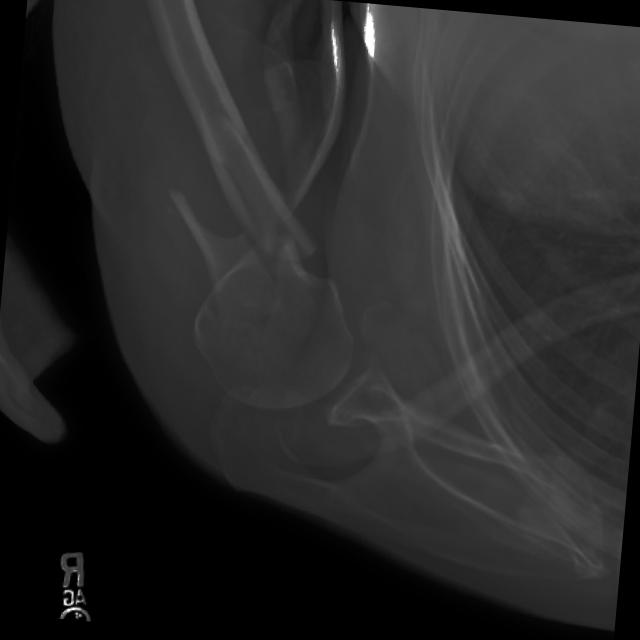humerus fracture: (129, 97, 349, 350)
